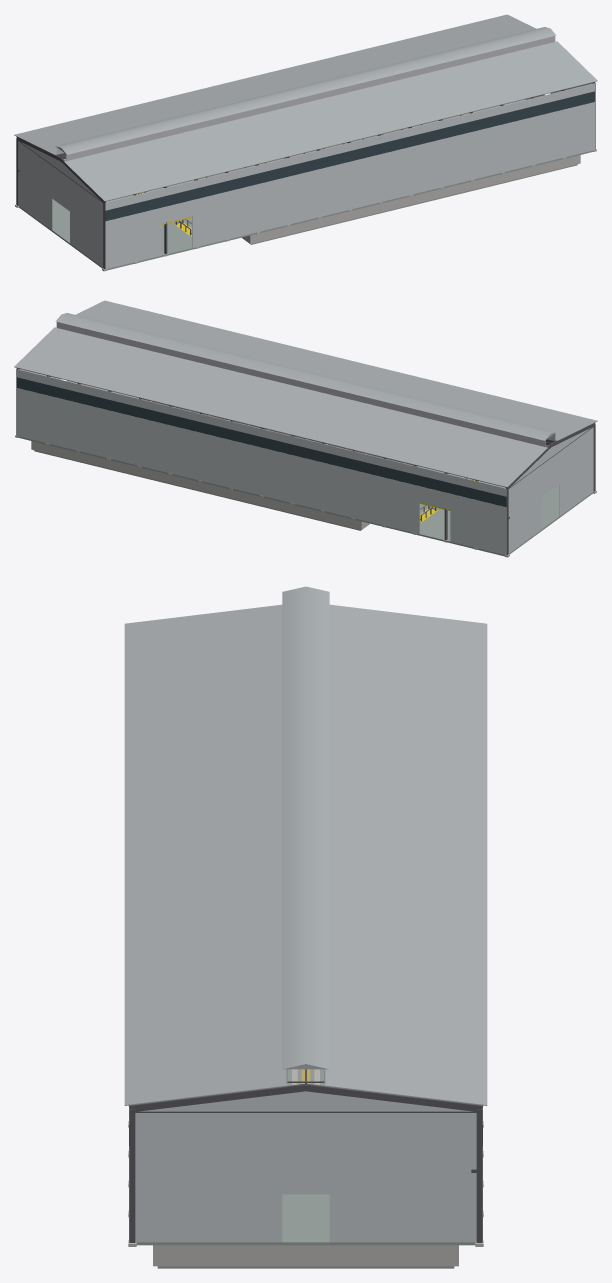
The model's file is SM_TankhouseBuilding.fbx.
3 renders of one model, top to bottom at view 1: azimuth 30°, elevation 25°; view 2: azimuth 150°, elevation 25°; view 3: azimuth 270°, elevation 25°, orthographic. The views are drawn at different scales.
Parts seen in each view (by area): view 1: TH_Roof, TH_Walls, TH_Basement, TH_OperatingFloor, TH_Frame; view 2: TH_Roof, TH_Walls, TH_Basement, TH_OperatingFloor, TH_Frame; view 3: TH_Roof, TH_Walls, TH_Basement, TH_Frame, TH_OperatingFloor.
Boxes of the visible parts, x1=… form: TH_Roof: x1=14, y1=14, x2=597, y2=201; TH_Walls: x1=18, y1=83, x2=594, y2=269; TH_Basement: x1=198, y1=113, x2=580, y2=244; TH_OperatingFloor: x1=19, y1=99, x2=592, y2=269; TH_Frame: x1=15, y1=82, x2=596, y2=271; TH_Roof: x1=14, y1=300, x2=597, y2=487; TH_Walls: x1=17, y1=369, x2=593, y2=555; TH_Basement: x1=31, y1=399, x2=413, y2=530; TH_OperatingFloor: x1=19, y1=385, x2=592, y2=555; TH_Frame: x1=15, y1=368, x2=596, y2=557; TH_Roof: x1=124, y1=586, x2=487, y2=1105; TH_Walls: x1=129, y1=1091, x2=482, y2=1242; TH_Basement: x1=153, y1=1069, x2=458, y2=1268; TH_Frame: x1=128, y1=1069, x2=483, y2=1246; TH_OperatingFloor: x1=136, y1=1069, x2=475, y2=1245.
Bounding box in the file's own units: 9680 × 2010 × 3080.
